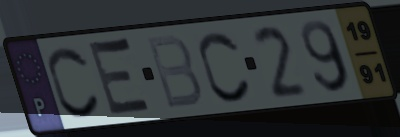2: (250, 23, 311, 101)
9: (298, 18, 352, 96)
B: (143, 32, 205, 112)
C: (196, 28, 255, 105), (46, 43, 104, 121)
E: (85, 35, 157, 120)
